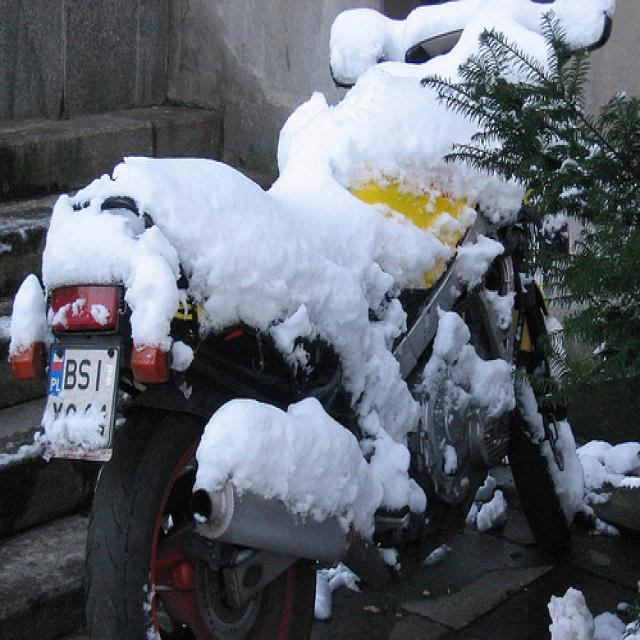motorbike: (8, 1, 618, 639)
